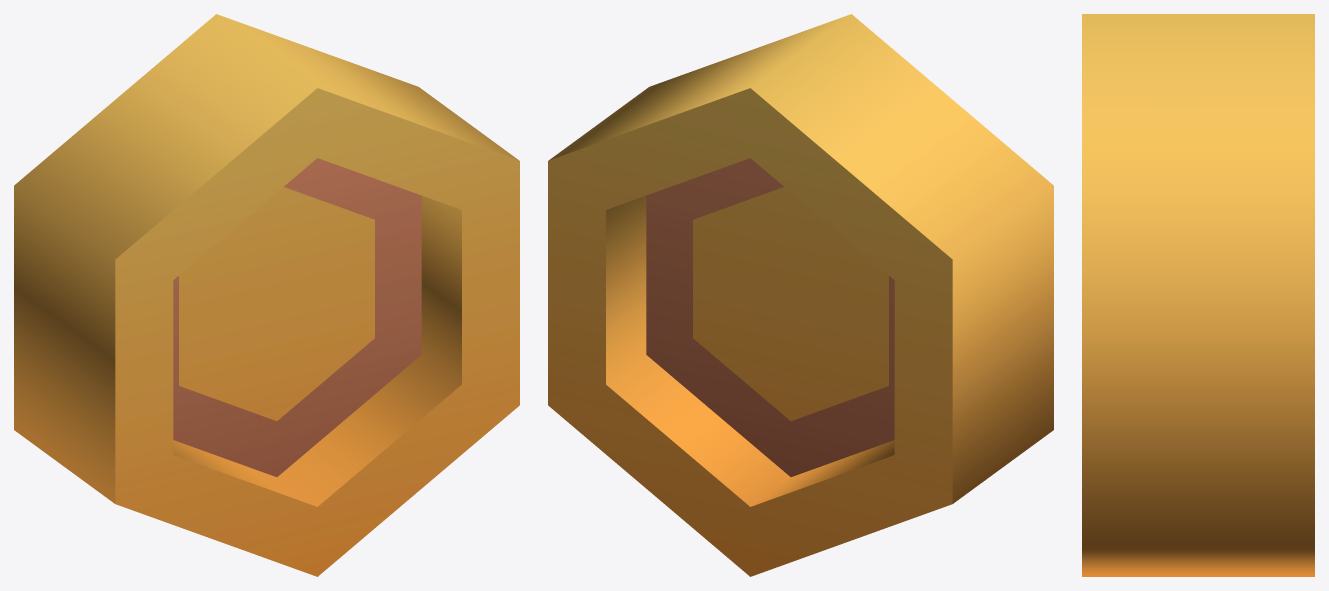
Rendered from kenney-platformer-coin-gold.glb.
The picture shows the model from 3 angles, left to right: view 1: azimuth 30°, elevation 25°; view 2: azimuth 150°, elevation 25°; view 3: azimuth 270°, elevation 25°; orthographic projection. The views are drawn at different scales.
Visible parts, largest first — view 1: coin-gold; view 2: coin-gold; view 3: coin-gold.
Boxes of the visible parts, box(x1,y1,x2,y2) form: coin-gold: box(14, 14, 519, 576); coin-gold: box(548, 14, 1053, 576); coin-gold: box(1082, 14, 1314, 576).
Bounding box in the file's own units: 0.3464 × 0.4 × 0.15.
Materials: 1 (1 with a texture image).
